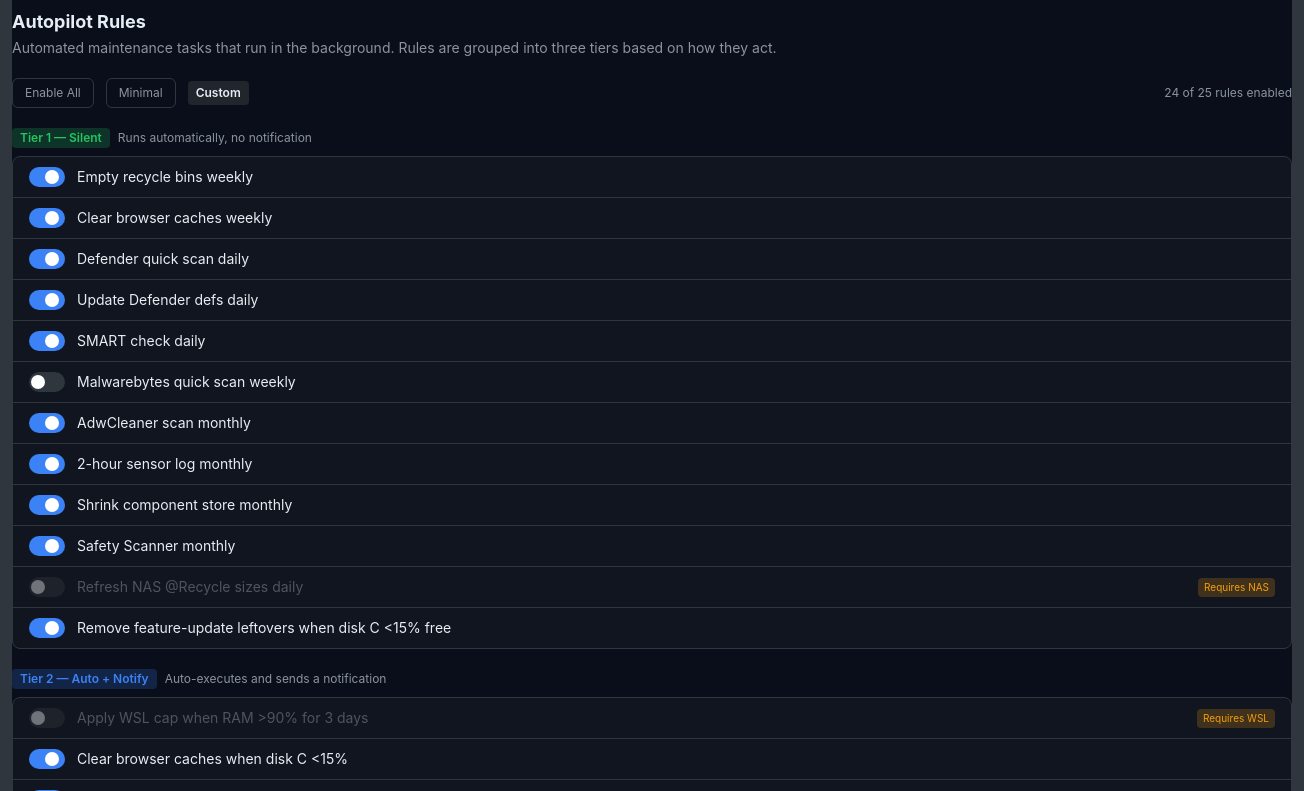
Scenario: <W7AutopilotRules> › toggles a rule when the switch is clicked
Expected: the text "Empty recycle bins weekly" is shown, [77,168,253,185]
What coordinates should you click on to do the following:
click the switch named "Empty recycle bins weekly"
I would click on:
 (47, 177)
Its box is [29,167,65,187].
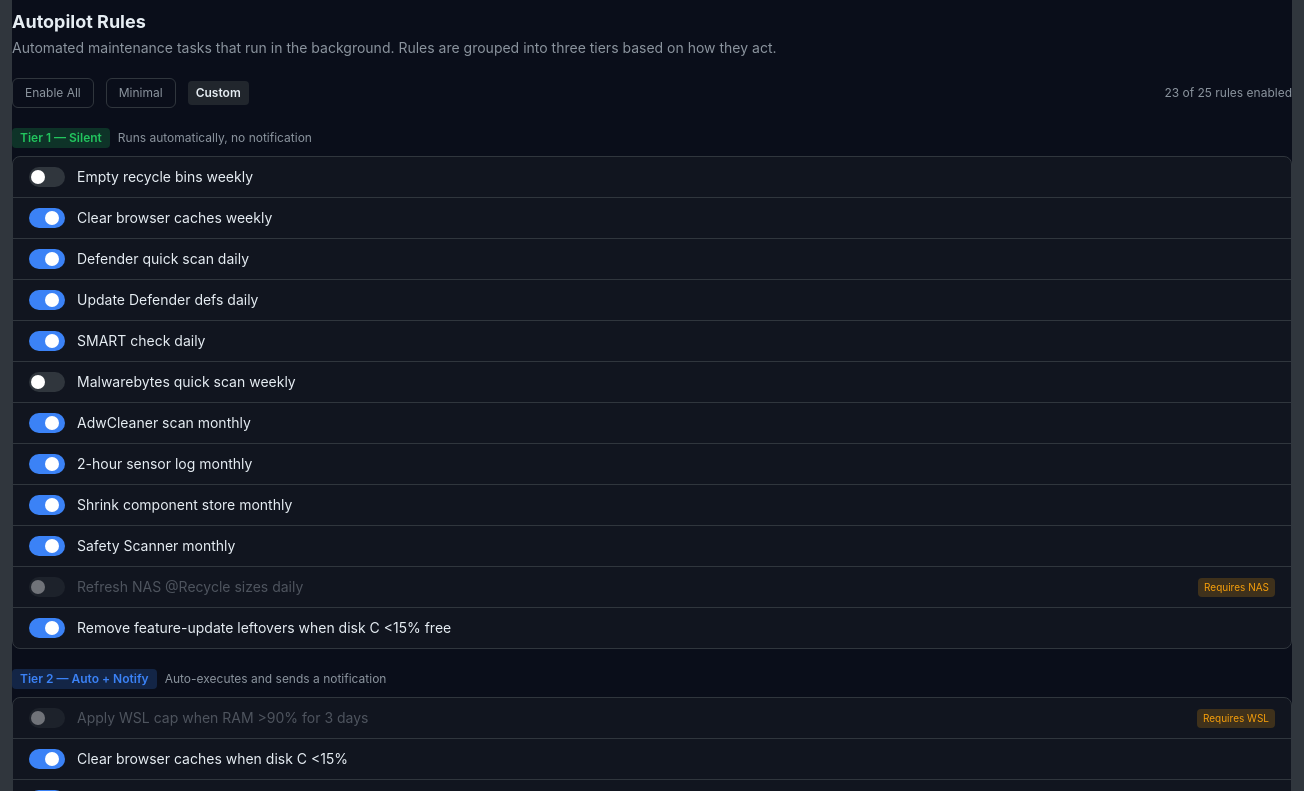
Expected: the text "23 of 25 rules enabled" is shown, [1164,85,1292,101]
